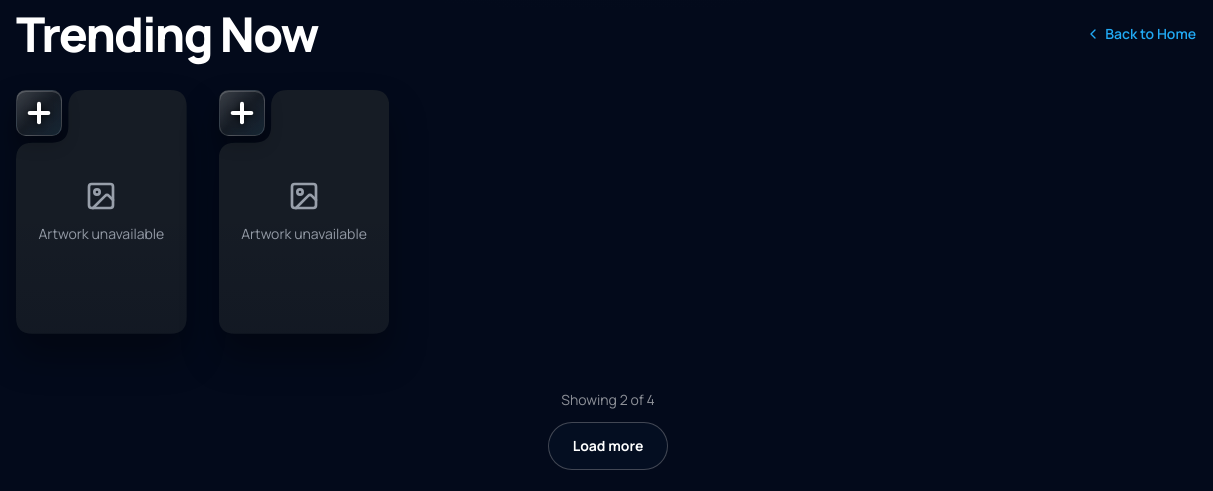
Test: BrowseExperience › keeps the loaded movies and offers Try again when a later page fails
The image size is (1213, 491).
Click the button "Load more".
click(608, 446)  # box [548,422,668,470]
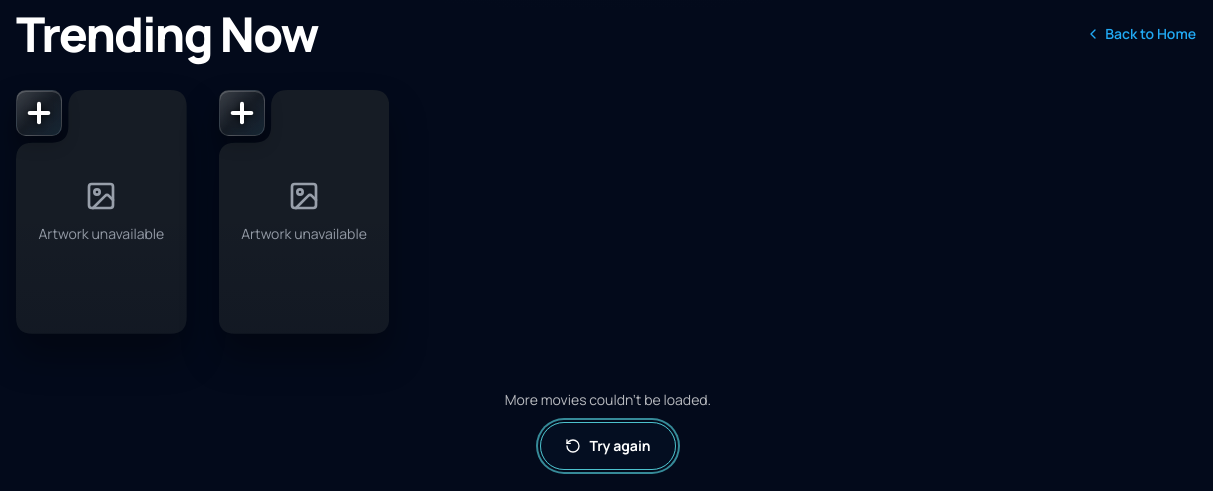
Expected: the link with aria-label "View details for Movie 1" is shown, [16,90,187,334]
Expected: the message reads "More movies couldn’t be loaded.", [505,390,711,409]
Click the button "Try again".
click(608, 446)  # box [540,422,676,470]
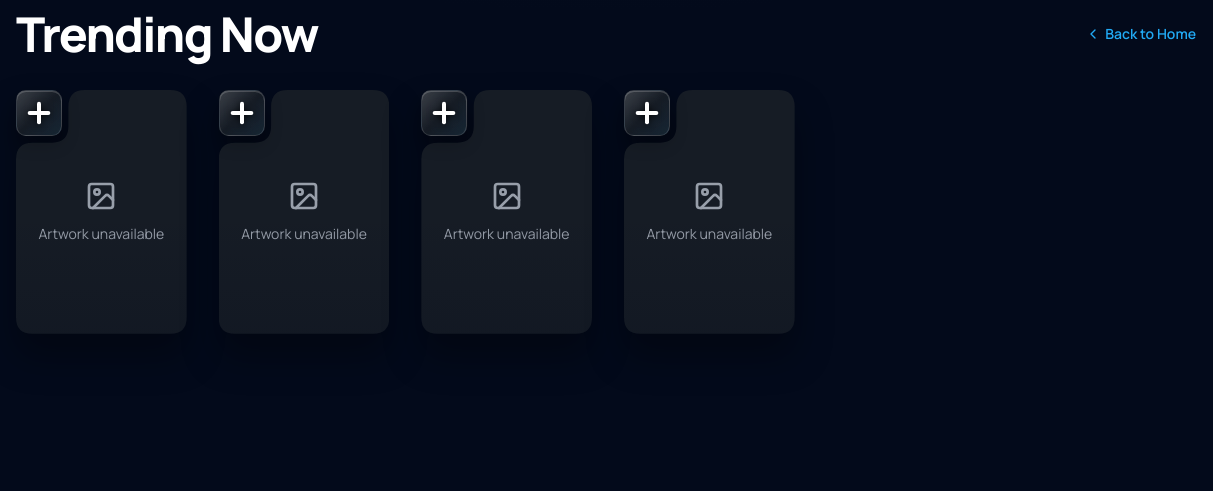
Expected: the link with aria-label "View details for Movie 4" is shown, [624,90,795,334]
Expected: the message "More movies couldn’t be loaded." is gone
